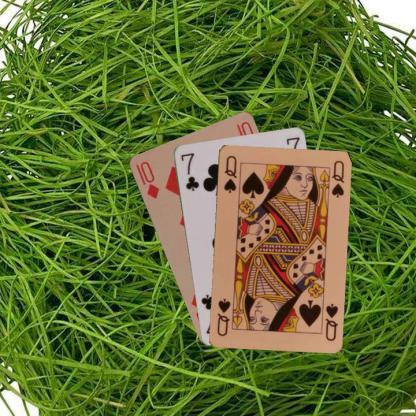10d: (133, 158, 160, 200)
7c: (178, 150, 200, 192)
Qs: (322, 300, 340, 342), (221, 152, 238, 194)
